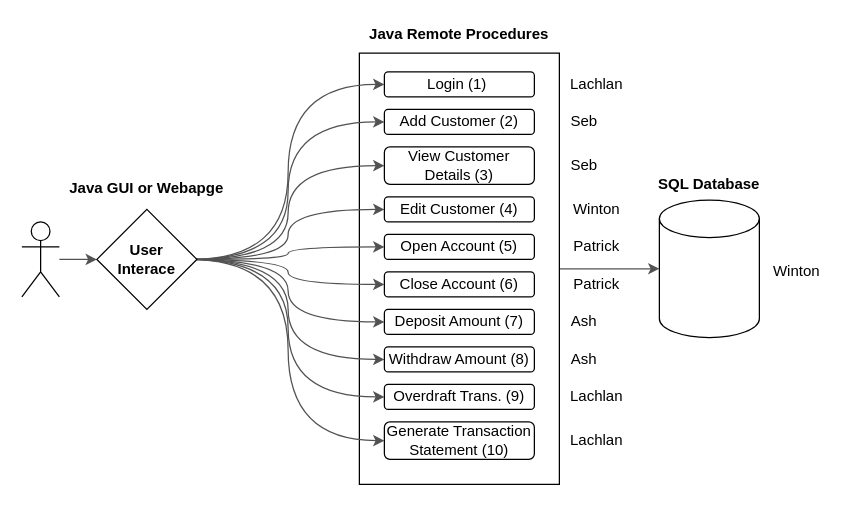
This 844x506 diagram has some shape labels left out. Here are the shapes that lost their labels. From the top down, the centre of each, then its label:
At [40,259]: "Clark".
At [708,268]: "Tables (11)".
